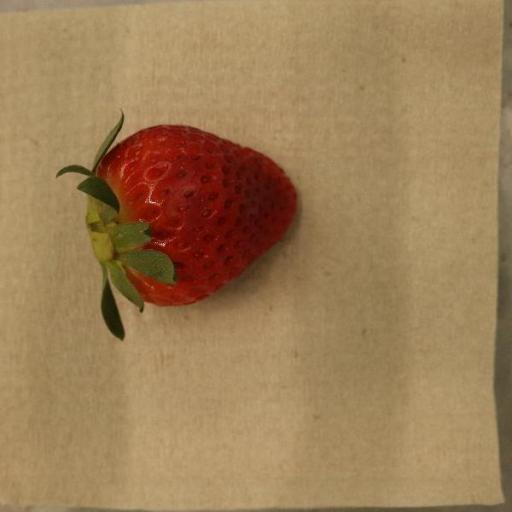Strawberry: (57, 116, 297, 340)
